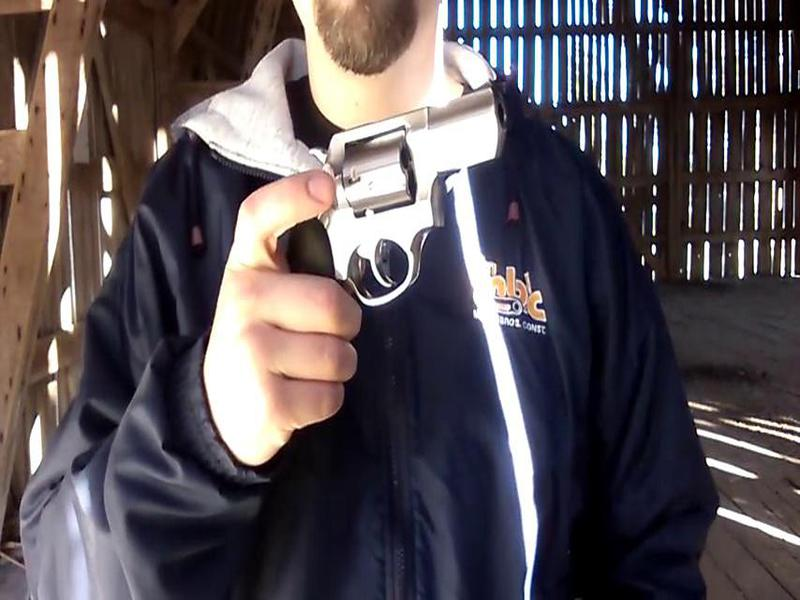Revolver: (256, 58, 537, 370)
